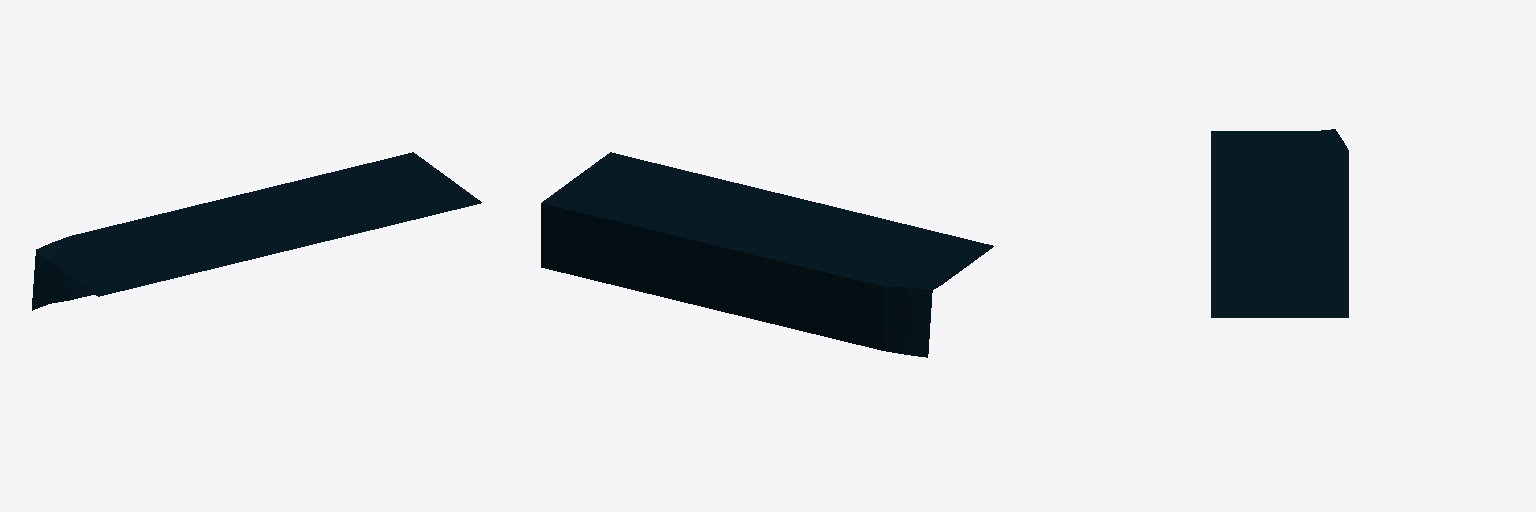
File: cave-water-2.obj
3 renders of one model, left to right at view 1: azimuth 30°, elevation 25°; view 2: azimuth 150°, elevation 25°; view 3: azimuth 270°, elevation 25°, orthographic.
Visible parts, largest first — view 1: WaterDraw.004_Plane.004; view 2: WaterDraw.004_Plane.004; view 3: WaterDraw.004_Plane.004.
Boxes of the visible parts, x1=… form: WaterDraw.004_Plane.004: x1=32, y1=152, x2=481, y2=310; WaterDraw.004_Plane.004: x1=541, y1=152, x2=993, y2=357; WaterDraw.004_Plane.004: x1=1211, y1=129, x2=1348, y2=317.
Bounding box in the file's own units: 25.27 × 4.15 × 7.9.